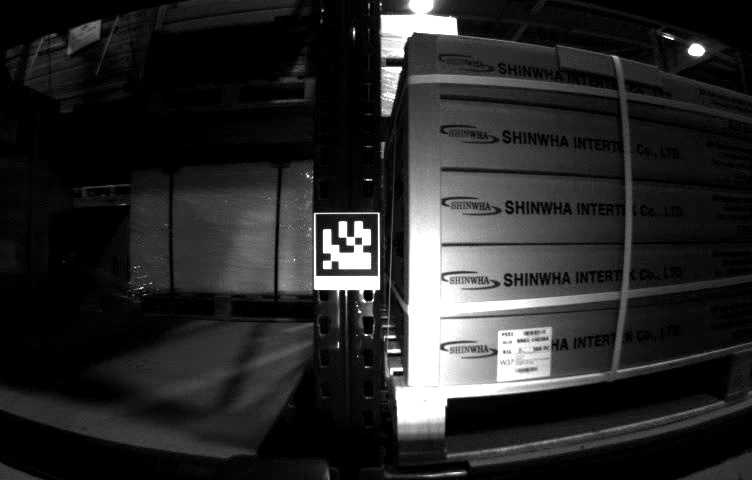True Barcode: (495, 330, 557, 378)
